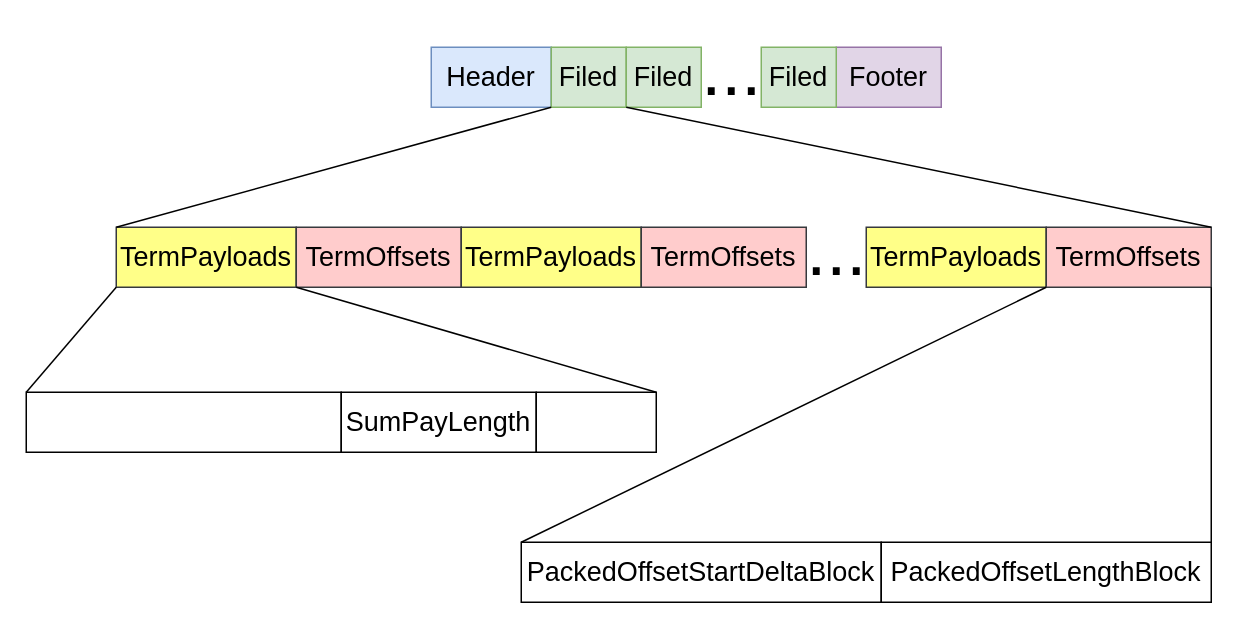
Image size: 1239x629. Some labels were removed from this diagram. The centre of each missing label's shape, as x and y in pixels:
"PackedPayLengthBlock" belongs at pixel 183 421.
"PayData" belongs at pixel 595 421.
